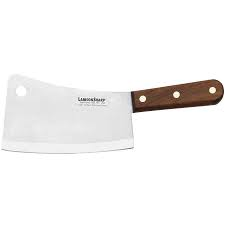knife: (1, 72, 225, 156)
